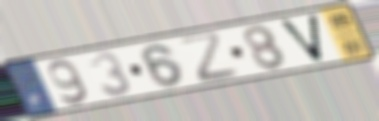3: (87, 50, 134, 99)
6: (138, 43, 187, 89)
8: (242, 24, 288, 72)
9: (45, 58, 90, 108)
V: (275, 12, 327, 65)
Z: (175, 29, 244, 85)
